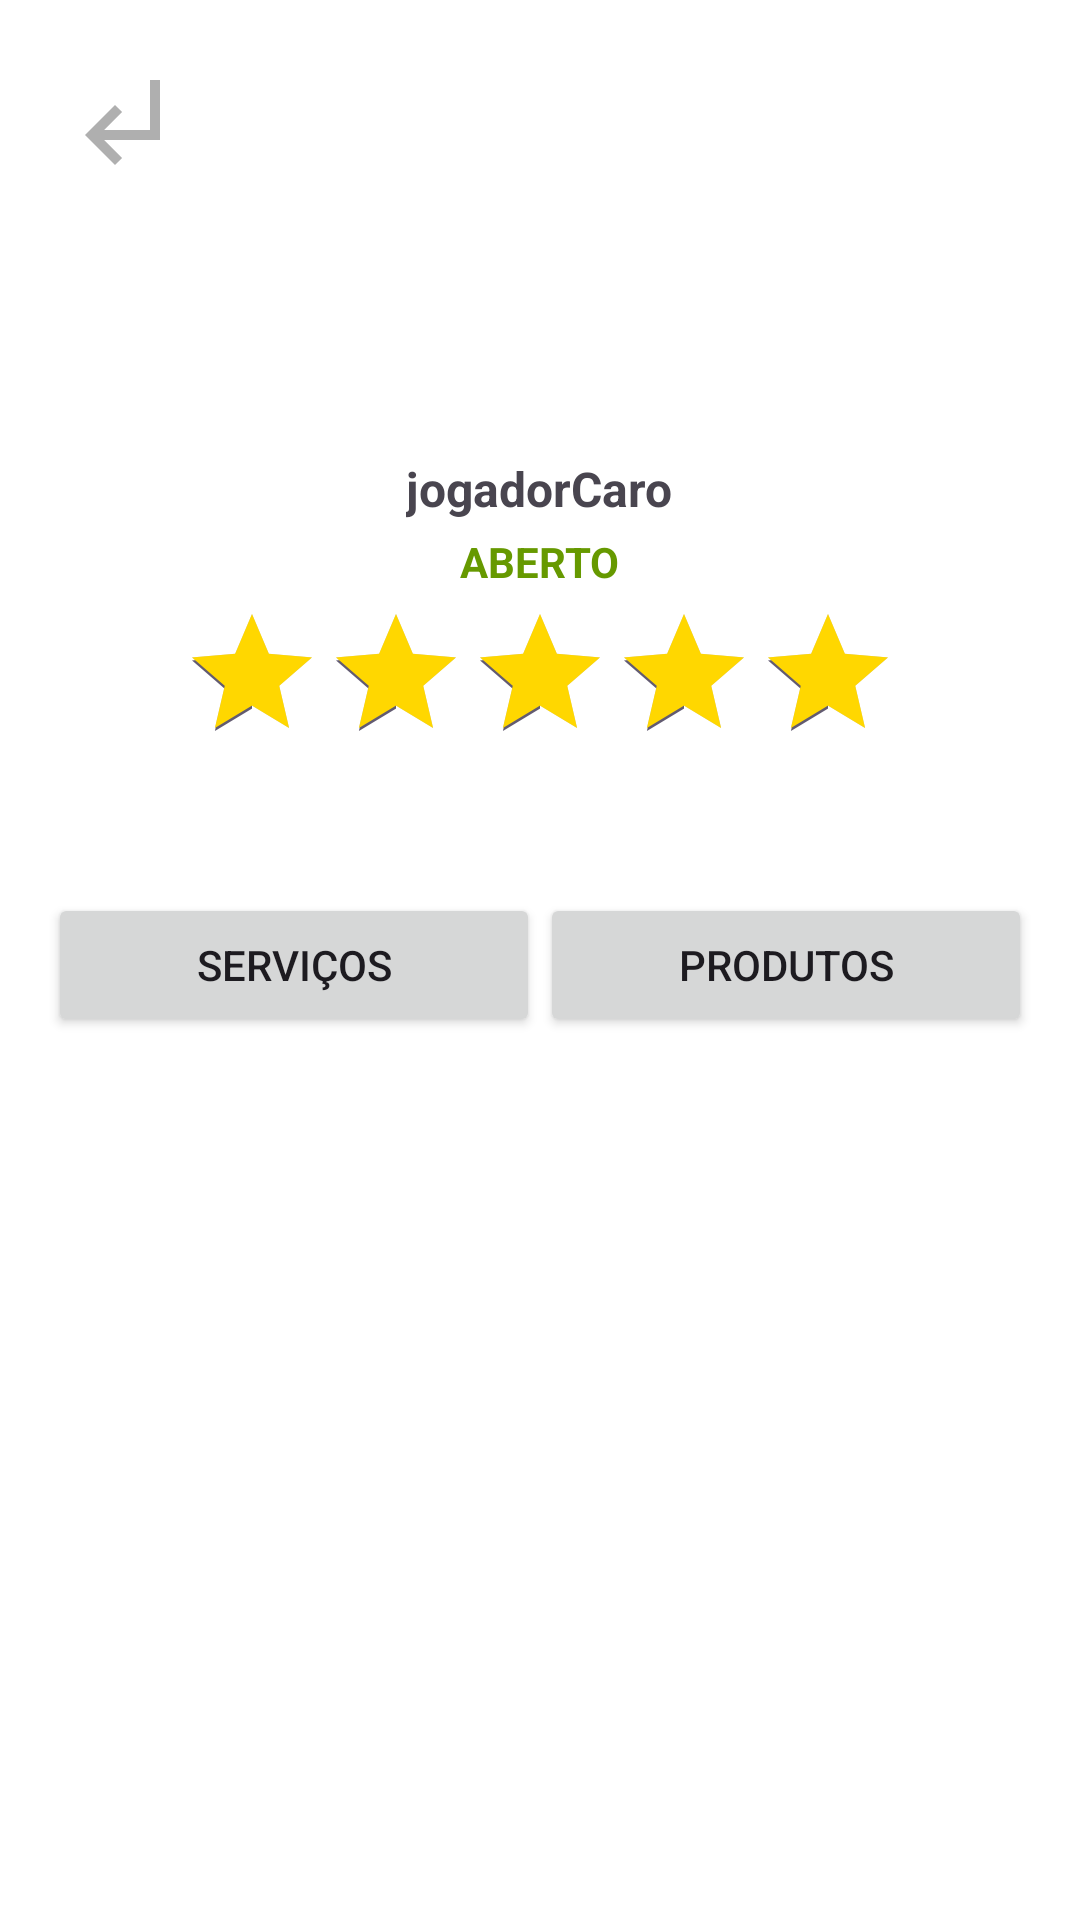

Icon bounding boxes for this 1080 x 1920 phone screenshot, format (x1, y1, x2, y2):
arrow left: (85, 80, 160, 165)
